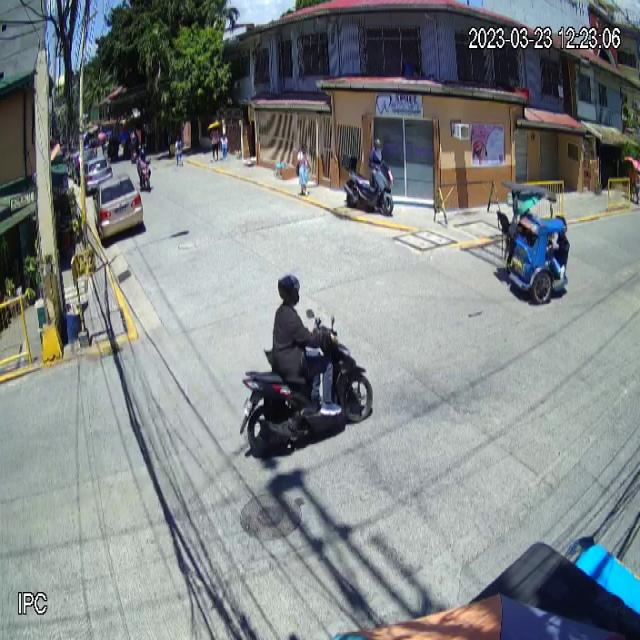Motorcycle: (239, 306, 375, 458)
Tricycle: (496, 180, 572, 304)
